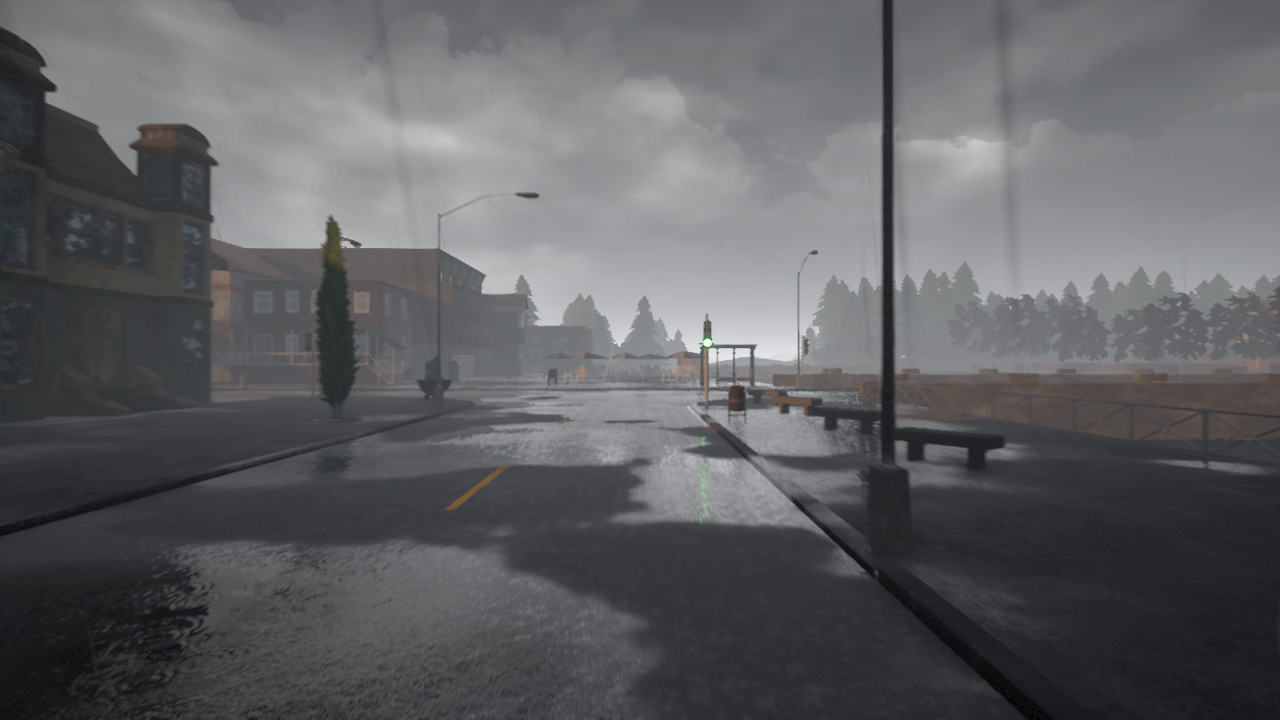green: (703, 320, 713, 348)
